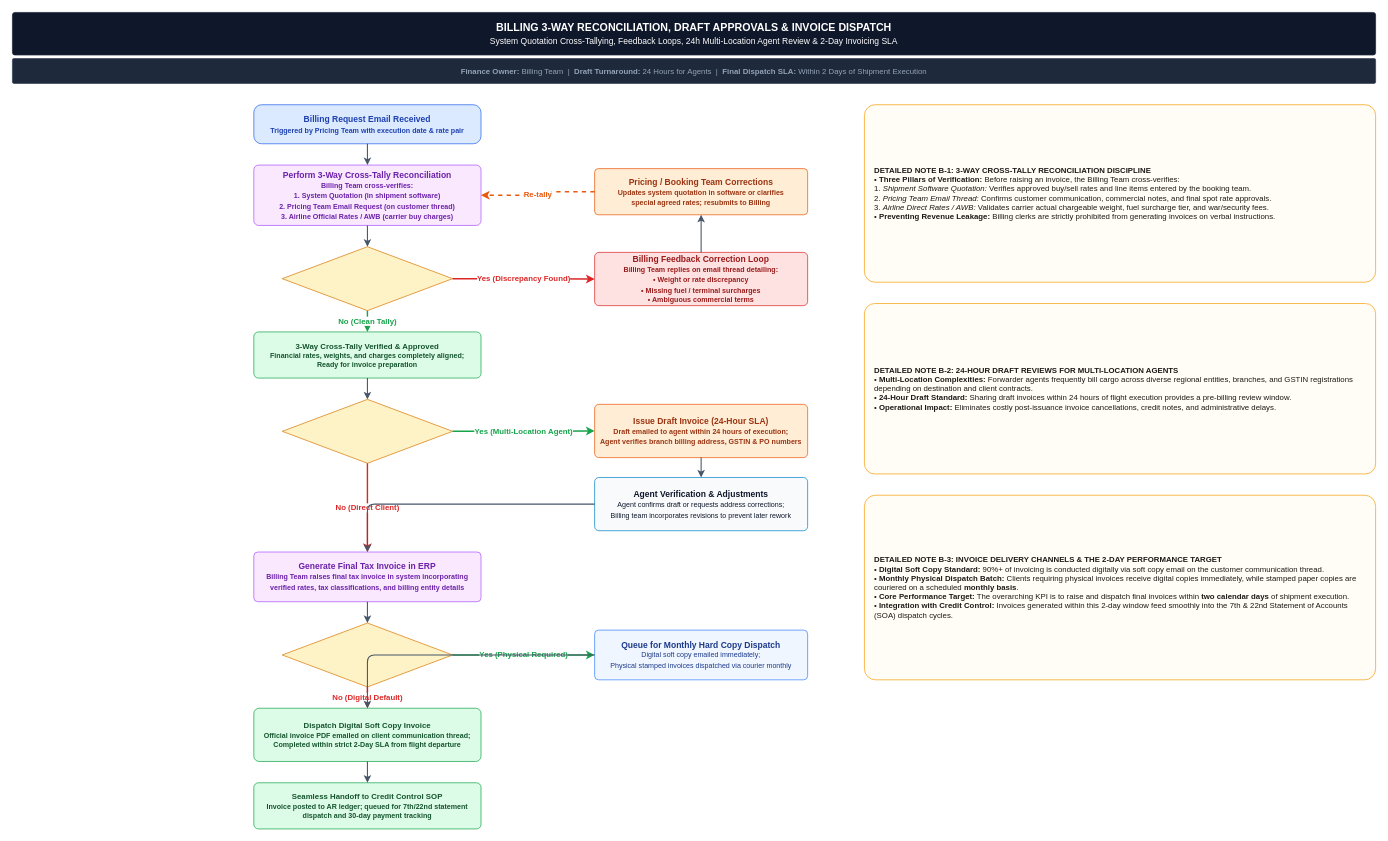
This 1388x841 diagram has some shape labels left out. The centre of each missing label's shape, as x and y in pixels:
"Any Mismatch, Discrepancy, or Requested Change?" goes at [367,278].
"Does Client Specifically Require Physical Hard Copy Invoices?" goes at [367,654].
"Is Client a Multi-Location Agent Needing Draft Review?" goes at [367,431].
